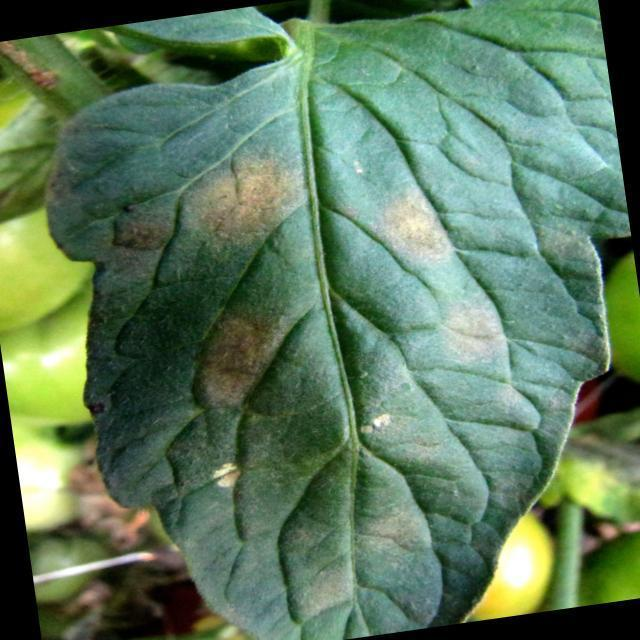Mosaic Virus: (69, 95, 584, 640)
